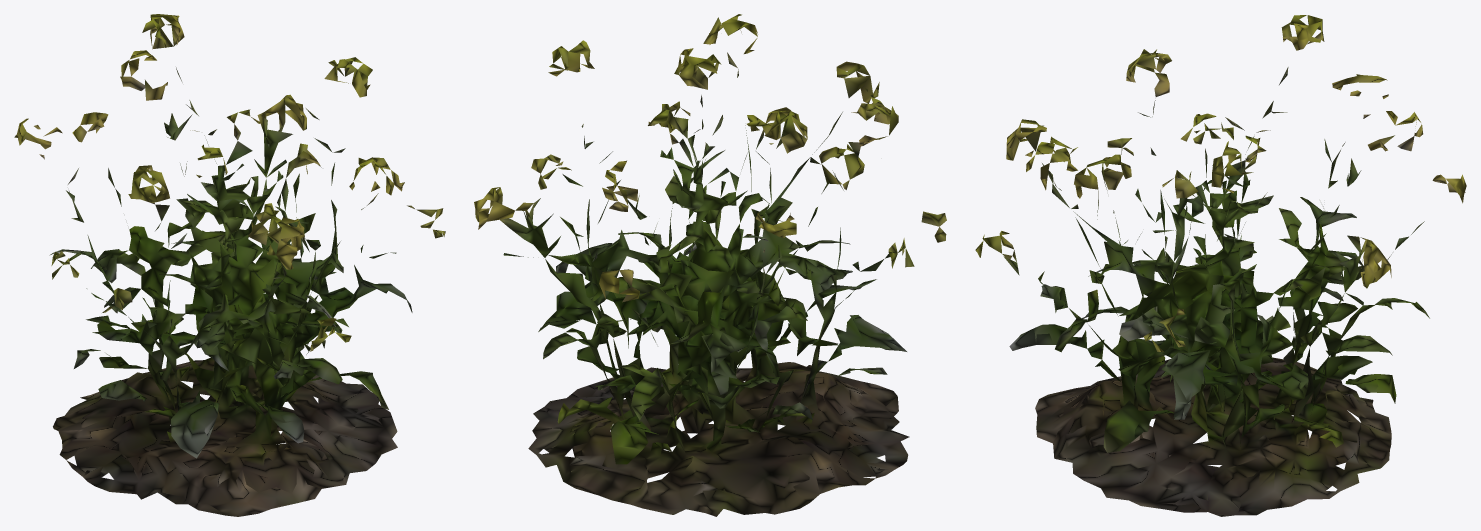
The model's file is nanohana.1.glb.
3 renders of one model, left to right at view 1: azimuth 30°, elevation 25°; view 2: azimuth 150°, elevation 25°; view 3: azimuth 270°, elevation 25°, orthographic. The views are drawn at different scales.
Visible parts, largest first — view 1: lod; view 2: lod; view 3: lod.
Part boxes in pixels (<box>): lod: <box>14,14,445,516</box>; lod: <box>474,14,946,516</box>; lod: <box>975,15,1466,516</box>.
Size of the model in its own units: 0.8905 by 0.9004 by 0.981.
